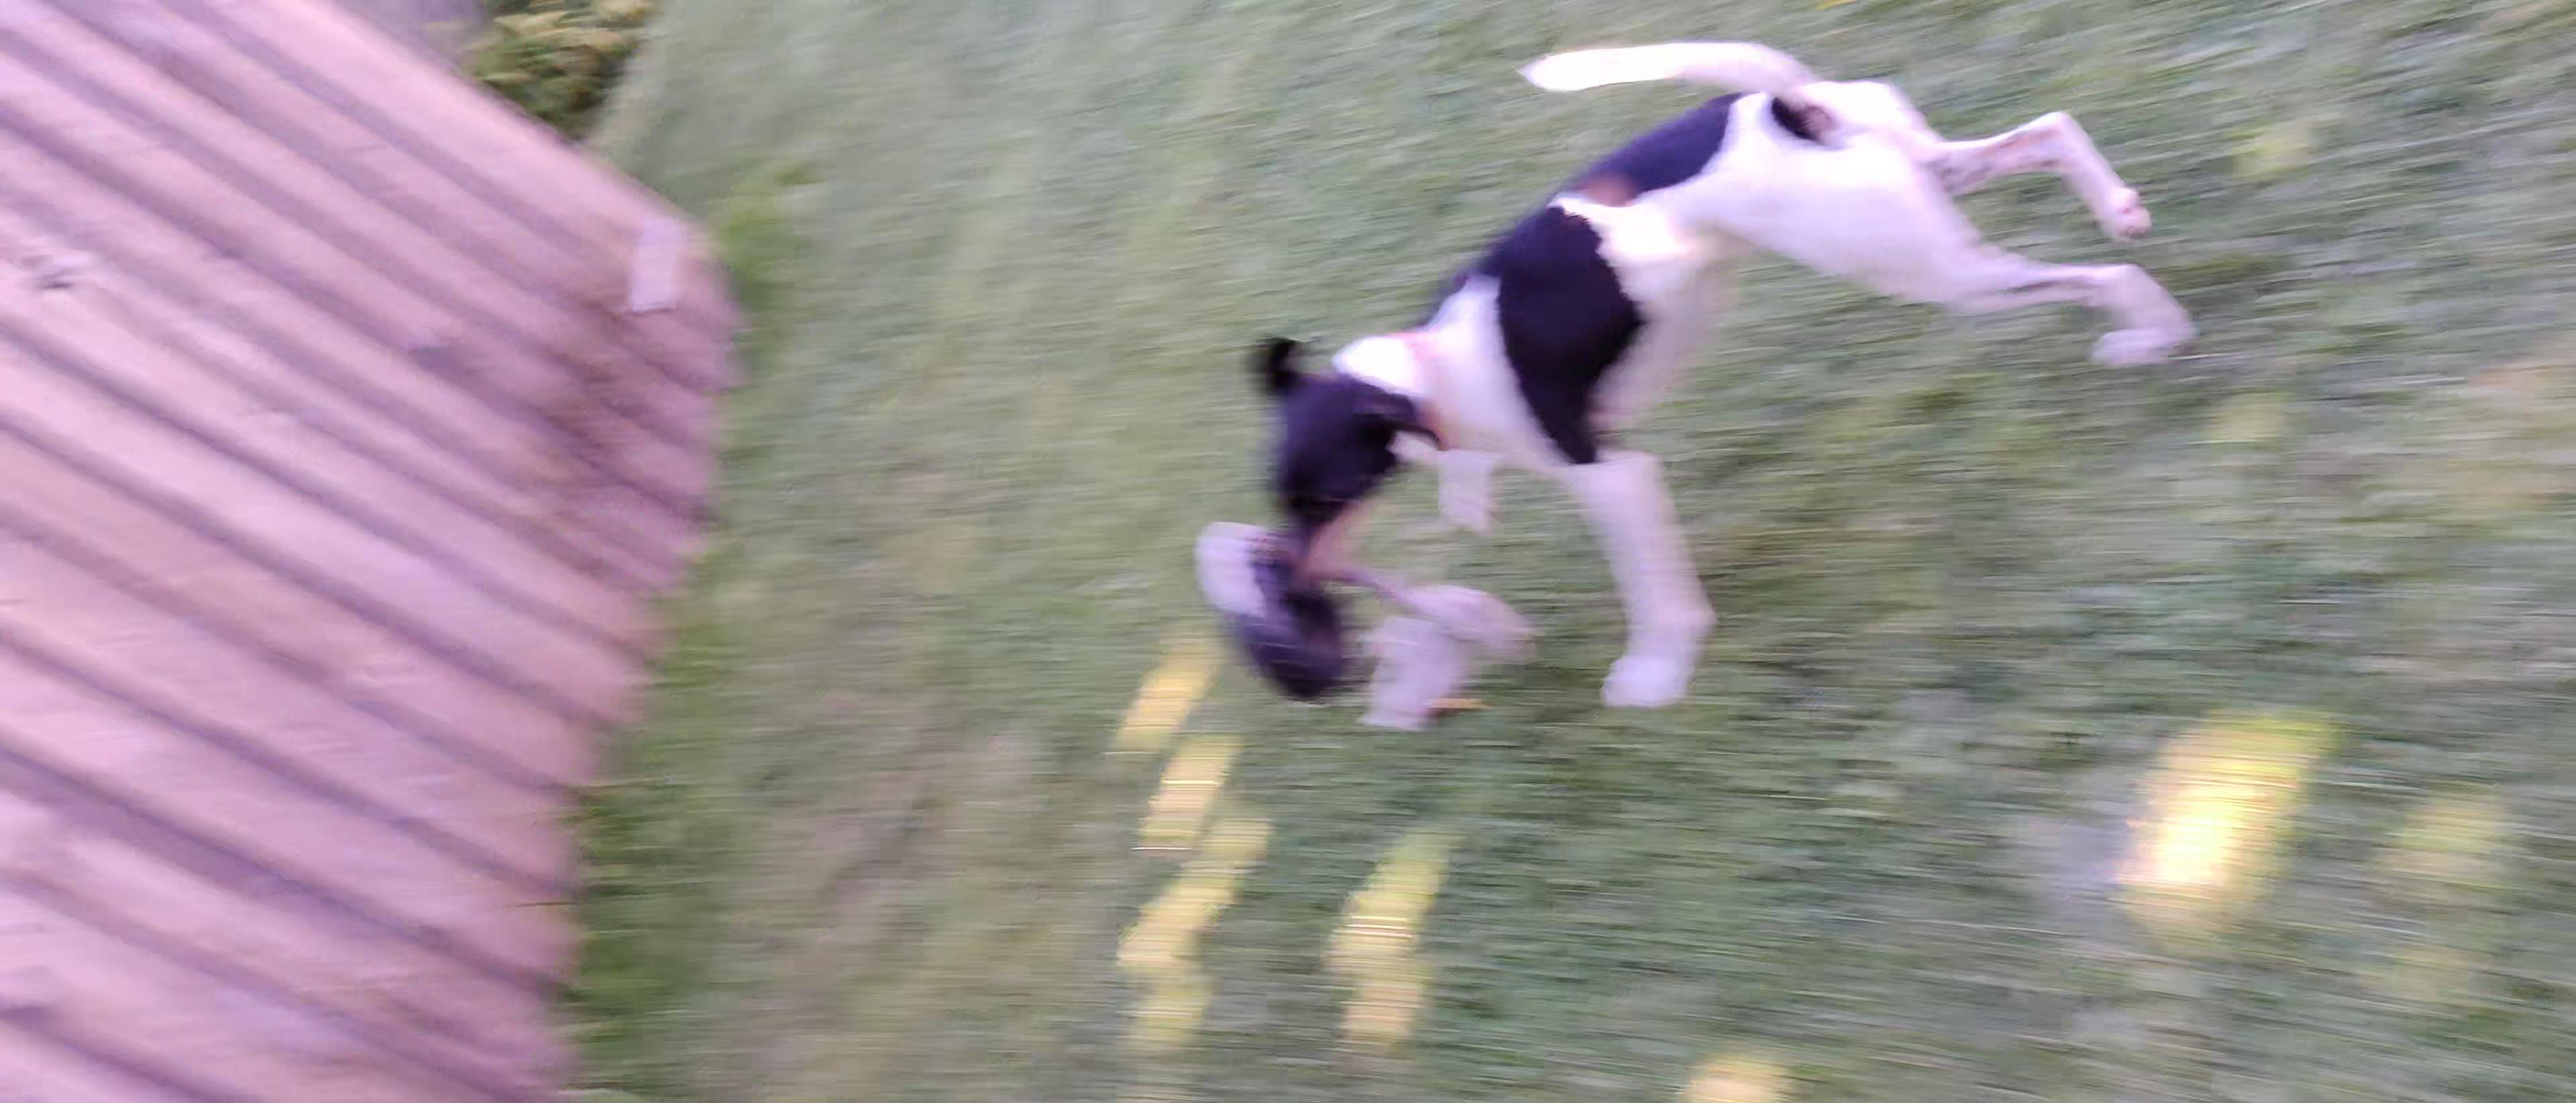Dog: (1235, 35, 2206, 720)
